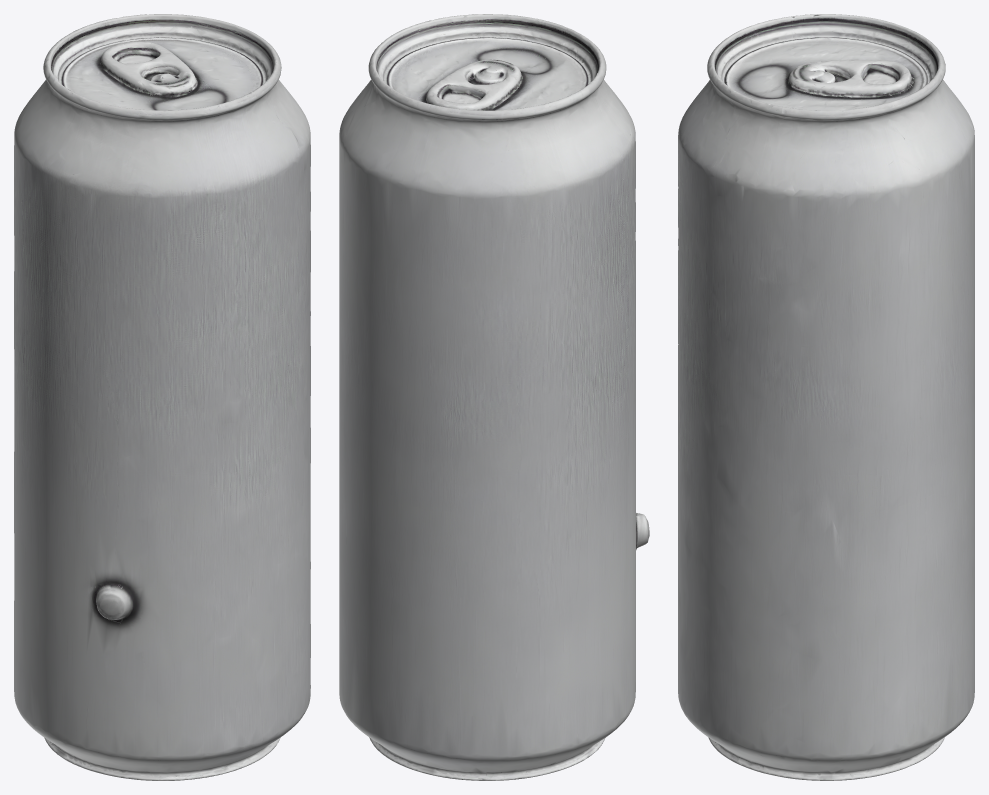
The picture shows the model from 3 angles, left to right: view 1: azimuth 30°, elevation 25°; view 2: azimuth 150°, elevation 25°; view 3: azimuth 270°, elevation 25°; orthographic projection.
Parts seen in each view (by area): view 1: Mesh_0; view 2: Mesh_0; view 3: Mesh_0.
Boxes of the visible parts, box(x1,y1,x2,y2) form: Mesh_0: box(14, 14, 310, 780); Mesh_0: box(339, 14, 649, 780); Mesh_0: box(678, 14, 974, 780).
Size of the model in its own units: 0.7693 by 1.91 by 0.7694.
Materials: 1 (1 with a texture image).
